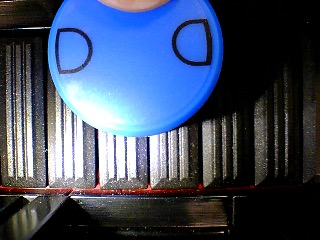MIPO2: (47, 1, 224, 137)
